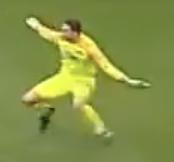goalkeeper: (15, 7, 159, 152)
